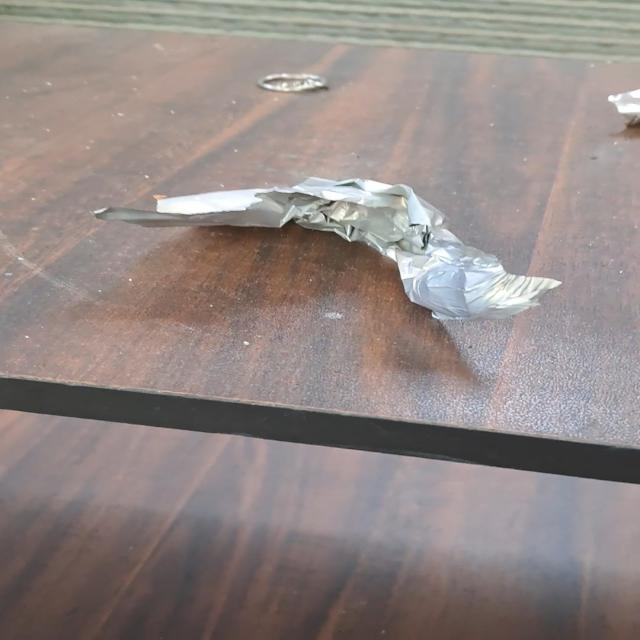Anorganik: (83, 167, 575, 325)
